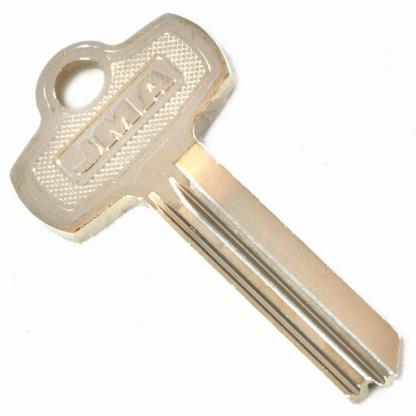key: (12, 12, 404, 400)
